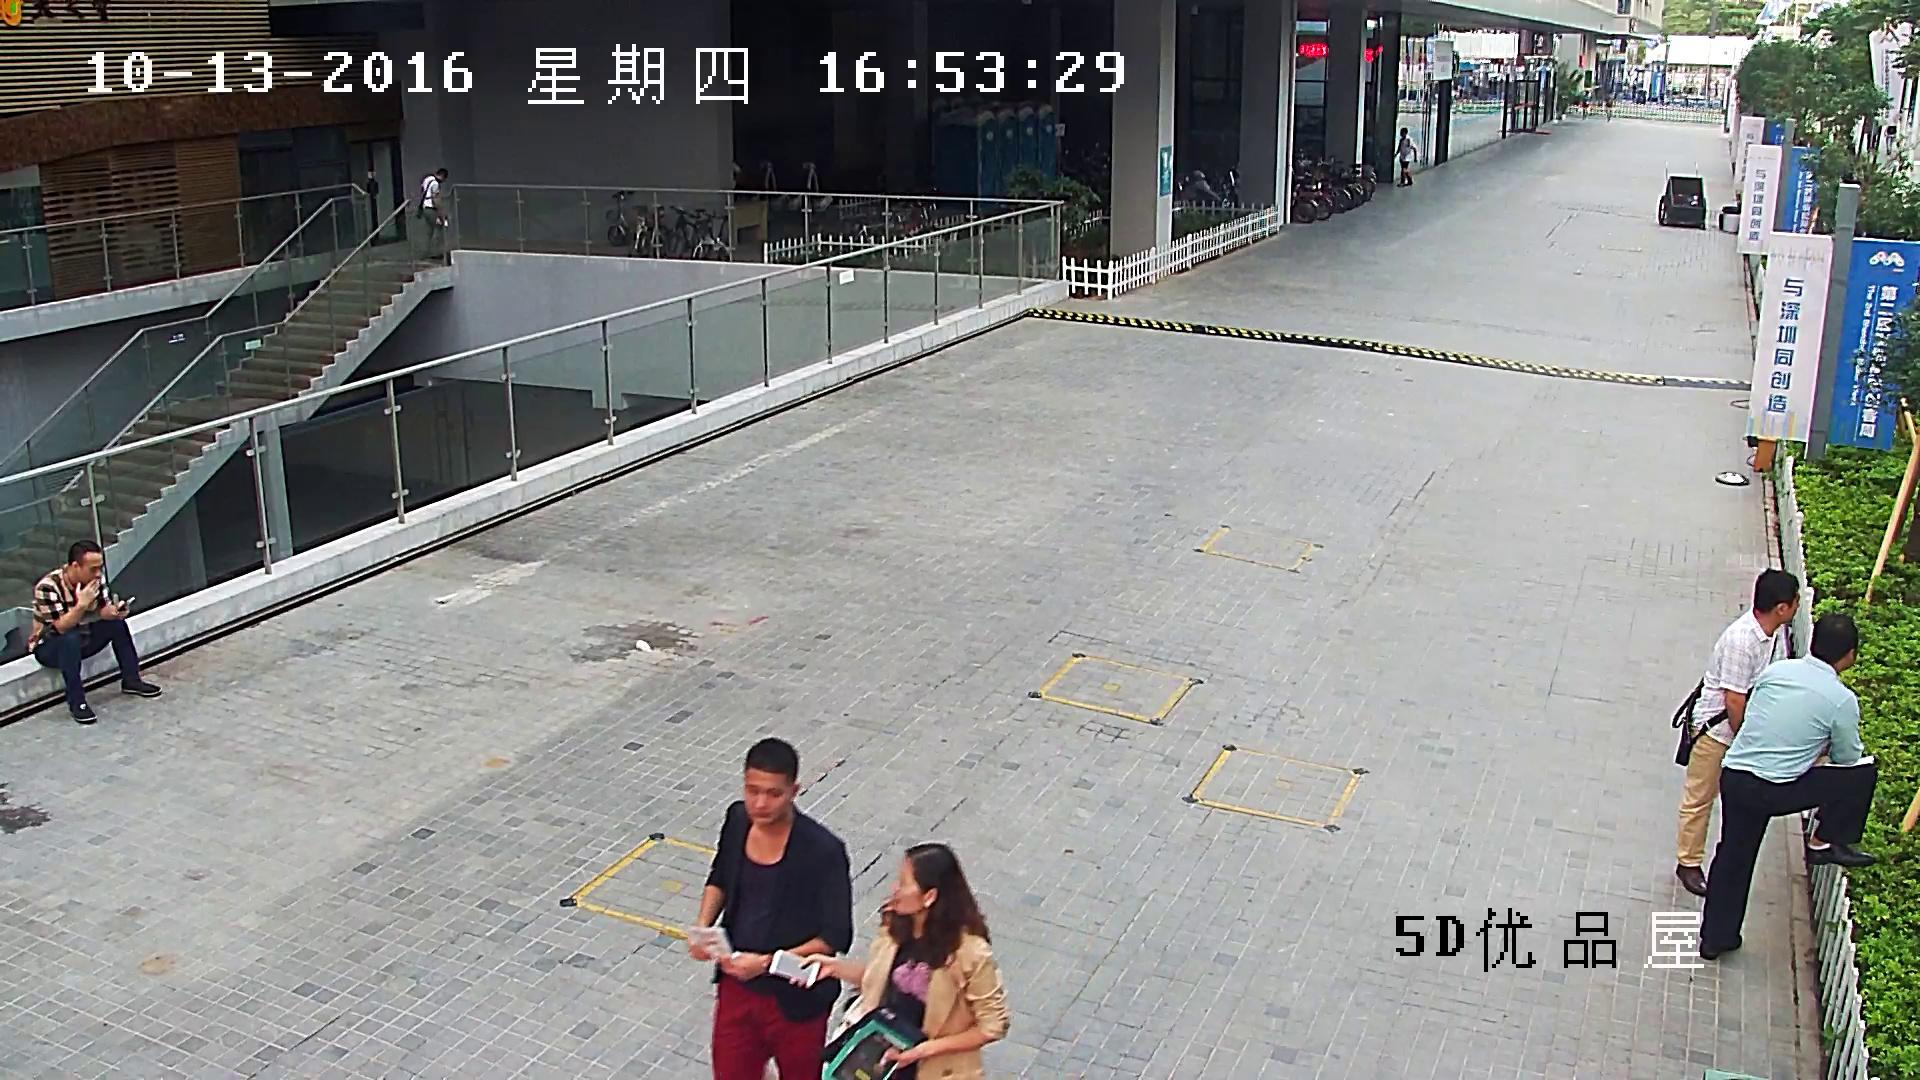person: (1699, 614, 1877, 959), (768, 843, 1009, 1080), (689, 736, 853, 1079), (1671, 568, 1799, 895), (32, 539, 162, 721), (415, 168, 448, 258), (1394, 128, 1418, 187), (1884, 104, 1900, 152), (1604, 92, 1614, 122), (1582, 89, 1591, 119)
